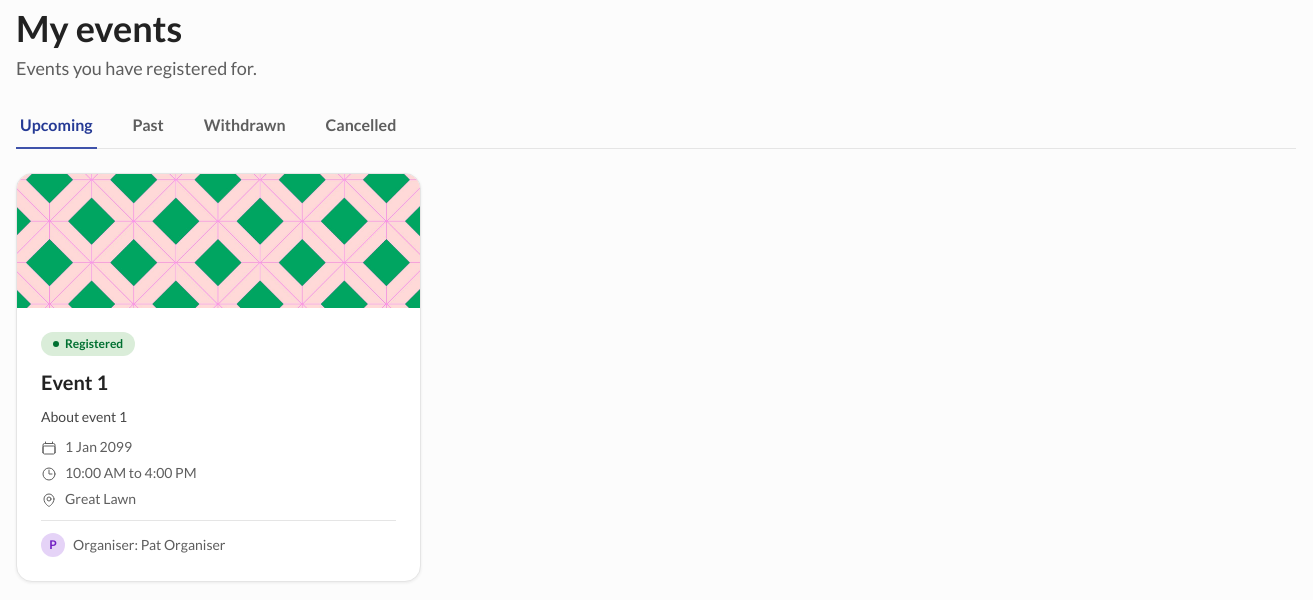
Test: AttendeeEventsView › puts withdrawn registrations only under Withdrawn, past or not
What coordinates should you click on to do the following:
click the tab "Past"
I would click on:
 (148, 126)
Its box is top-left (129, 103), bottom-right (168, 149).
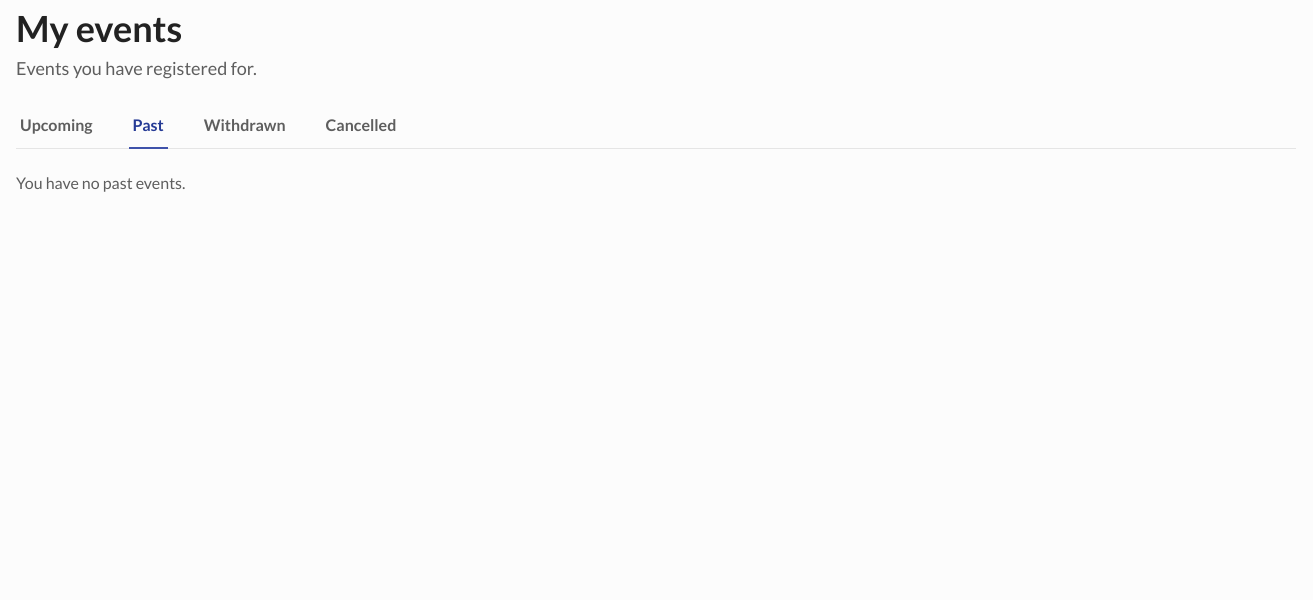
Expected: no links with class "event-card" are shown
What coordinates should you click on to do the following:
click the tab "Withdrawn"
I would click on:
 (245, 126)
Its box is top-left (200, 103), bottom-right (290, 149).
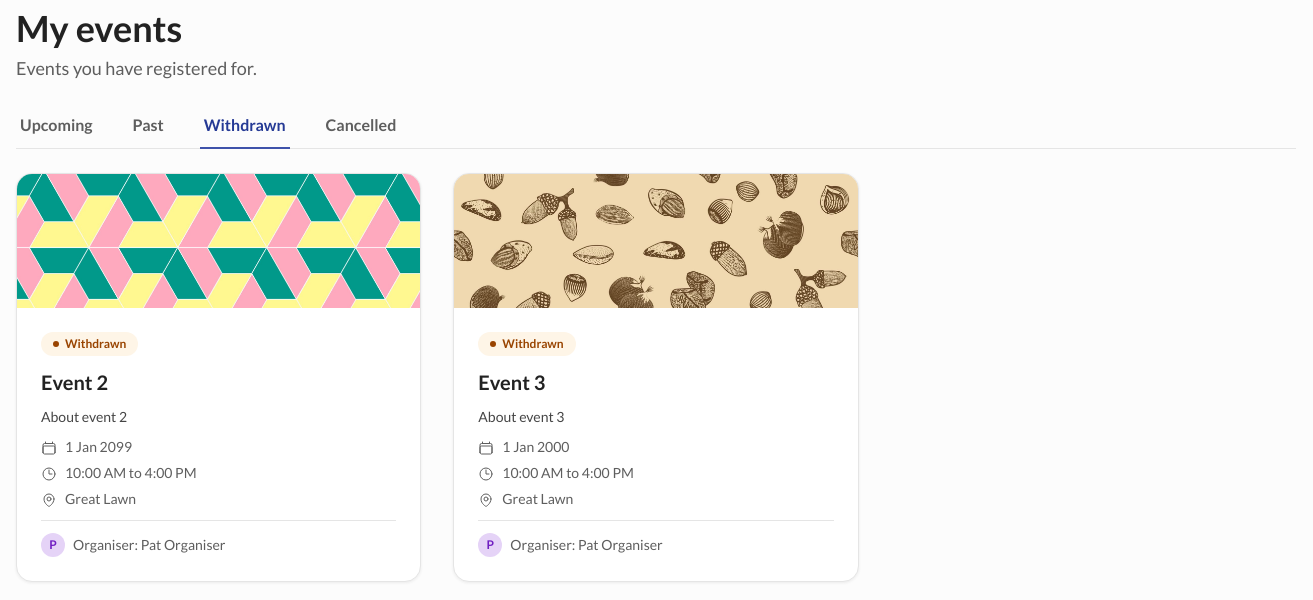
Expected: the elements with class "badge" read "Withdrawn", "Withdrawn", in this order, top-left (41, 332), bottom-right (138, 356); top-left (478, 332), bottom-right (576, 356)
